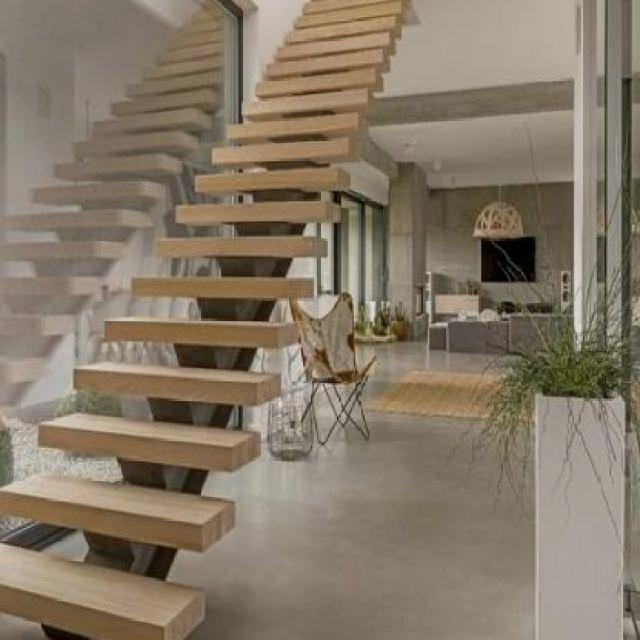stair: (0, 0, 429, 638)
